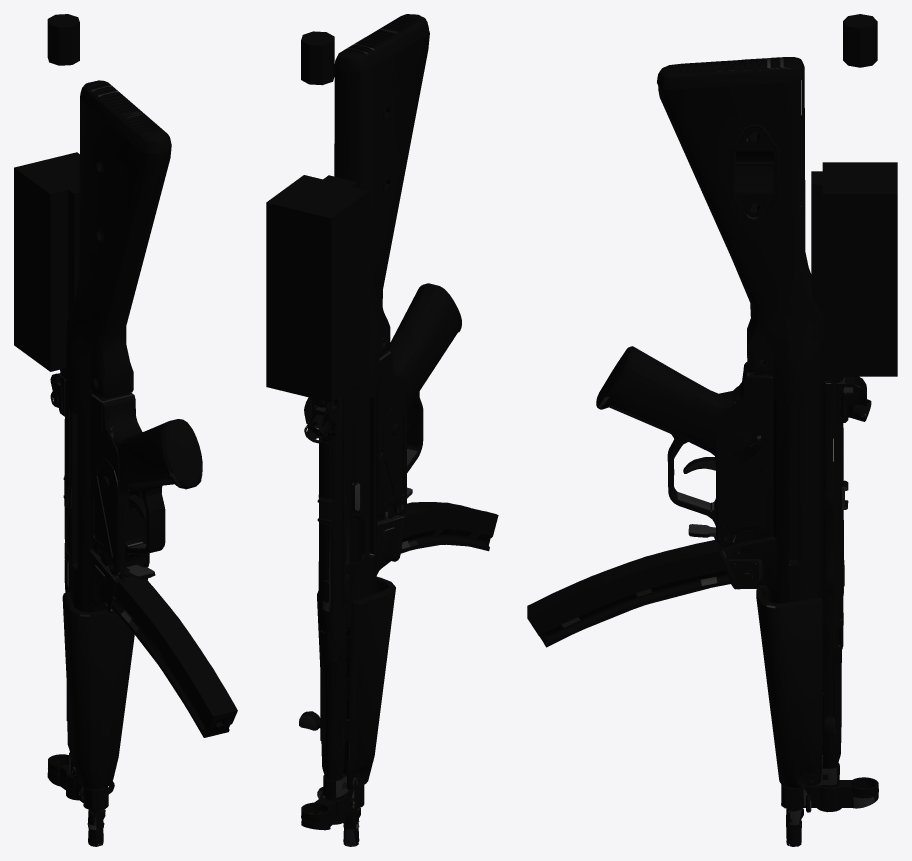
File: MP5A3__Adapter_HK_3Lug__Handguard_MP5_Rail.fbx
3 views of the same model, side by side, from view 1: azimuth 30°, elevation 25°; view 2: azimuth 150°, elevation 25°; view 3: azimuth 270°, elevation 25° (orthographic). The views are drawn at different scales.
Parts seen in each view (by area): view 1: asset_MP5A3.001; view 2: asset_MP5A3.001; view 3: asset_MP5A3.001.
Boxes of the visible parts, x1,y1,x2,y2 form: asset_MP5A3.001: (14, 14, 237, 846); asset_MP5A3.001: (266, 14, 498, 846); asset_MP5A3.001: (527, 14, 897, 846).
Size of the model in its own units: 0.0324 by 0.378 by 0.1542.
